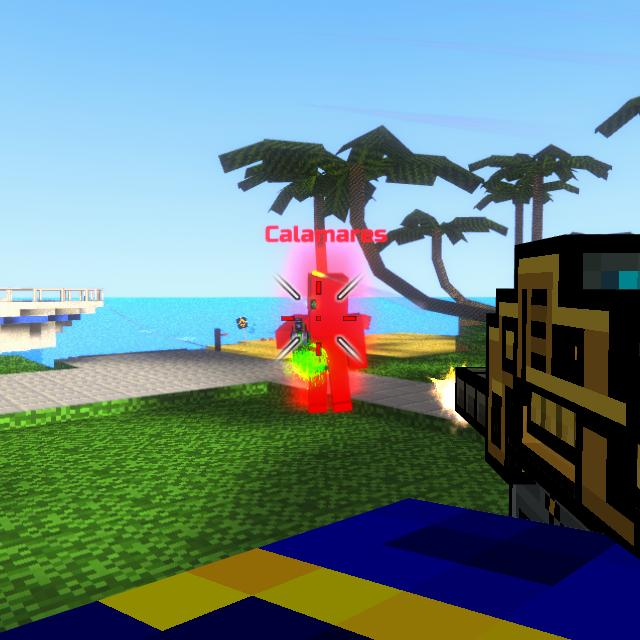Enemy: (293, 271, 363, 413)
